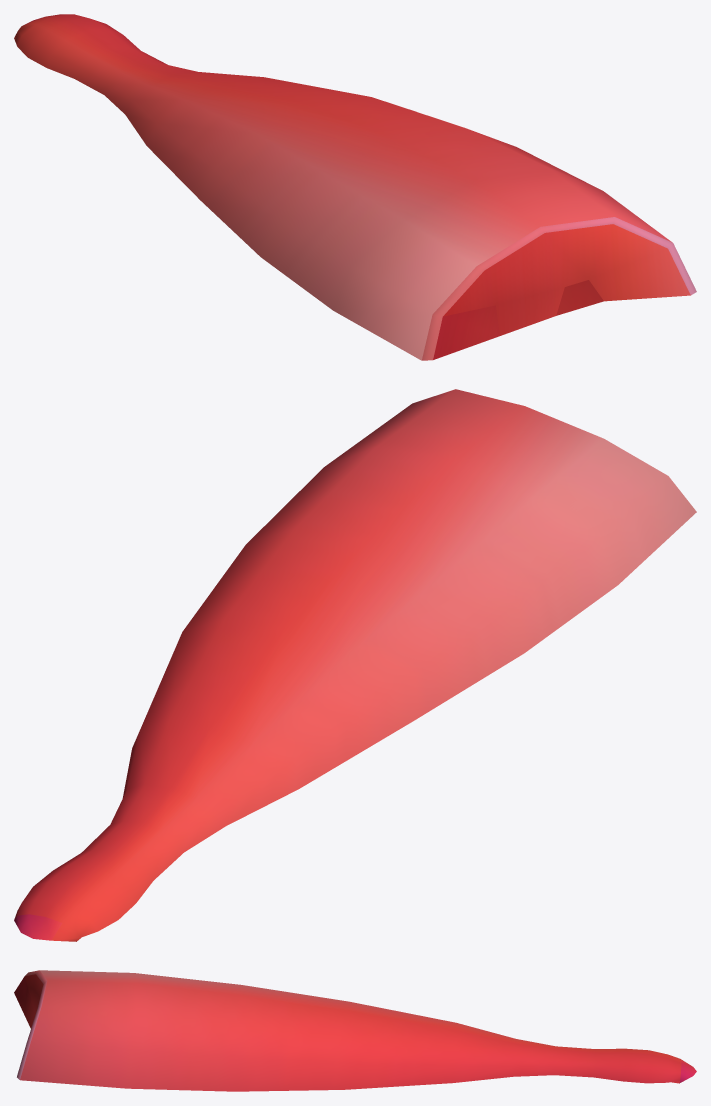
The picture shows the model from 3 angles, top to bottom: view 1: azimuth 30°, elevation 25°; view 2: azimuth 150°, elevation 25°; view 3: azimuth 270°, elevation 25°; orthographic projection. The views are drawn at different scales.
Visible parts, largest first — view 1: 10-2; view 2: 10-2; view 3: 10-2.
Part boxes in pixels (x1,y1,x2,y2): 10-2: (14,14,696,360); 10-2: (14,389,696,941); 10-2: (14,970,696,1091).
Size of the model in its own units: 12.5 by 6.17 by 37.82.
